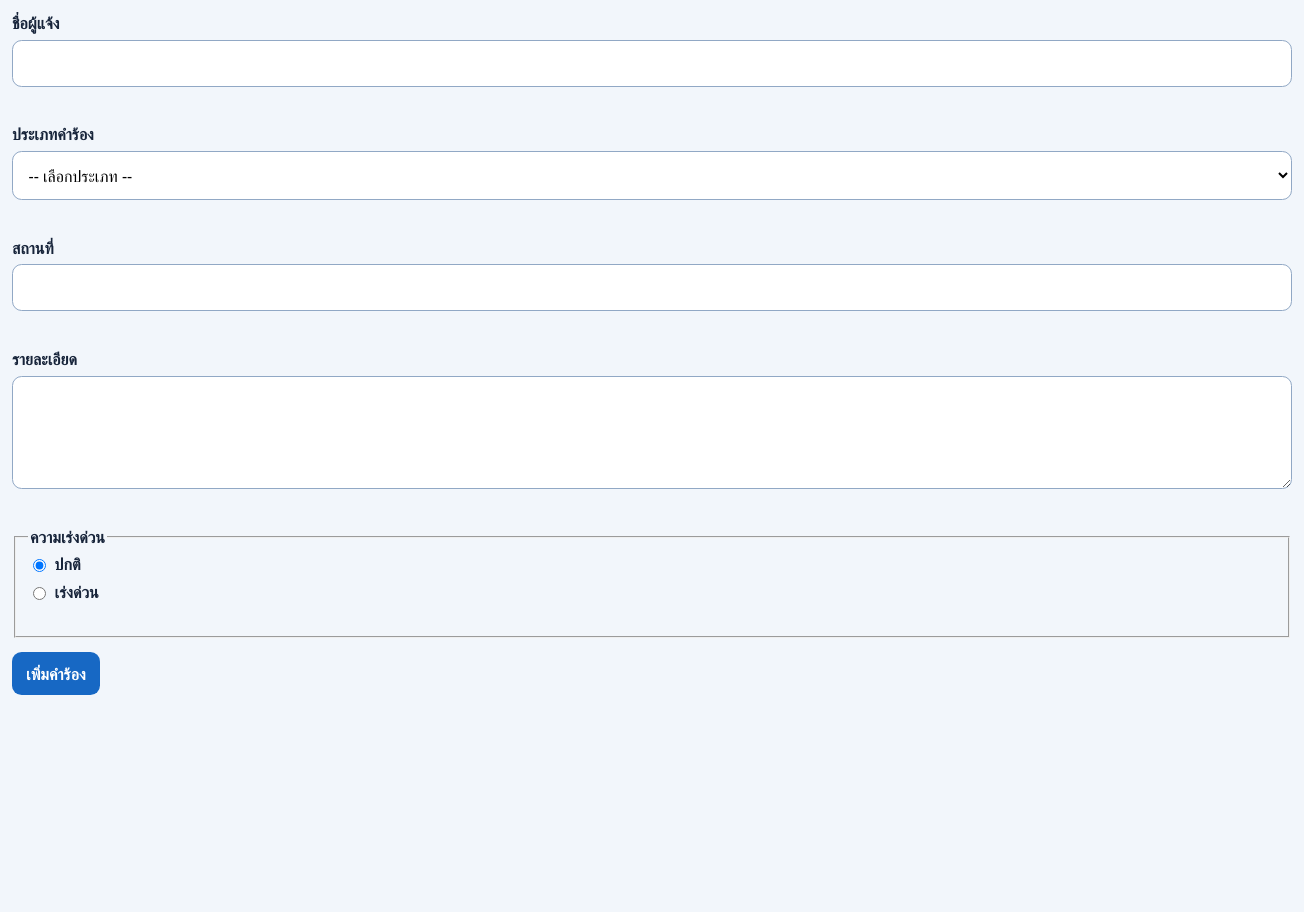
RequestForm › API ปฏิเสธ -> แสดงข้อความ error และ "ไม่" รีเซ็ตฟอร์ม
In the field labelled "ชื่อผู้แจ้ง": [652, 63] box [12,40,1292,87], type "ญาณากร"
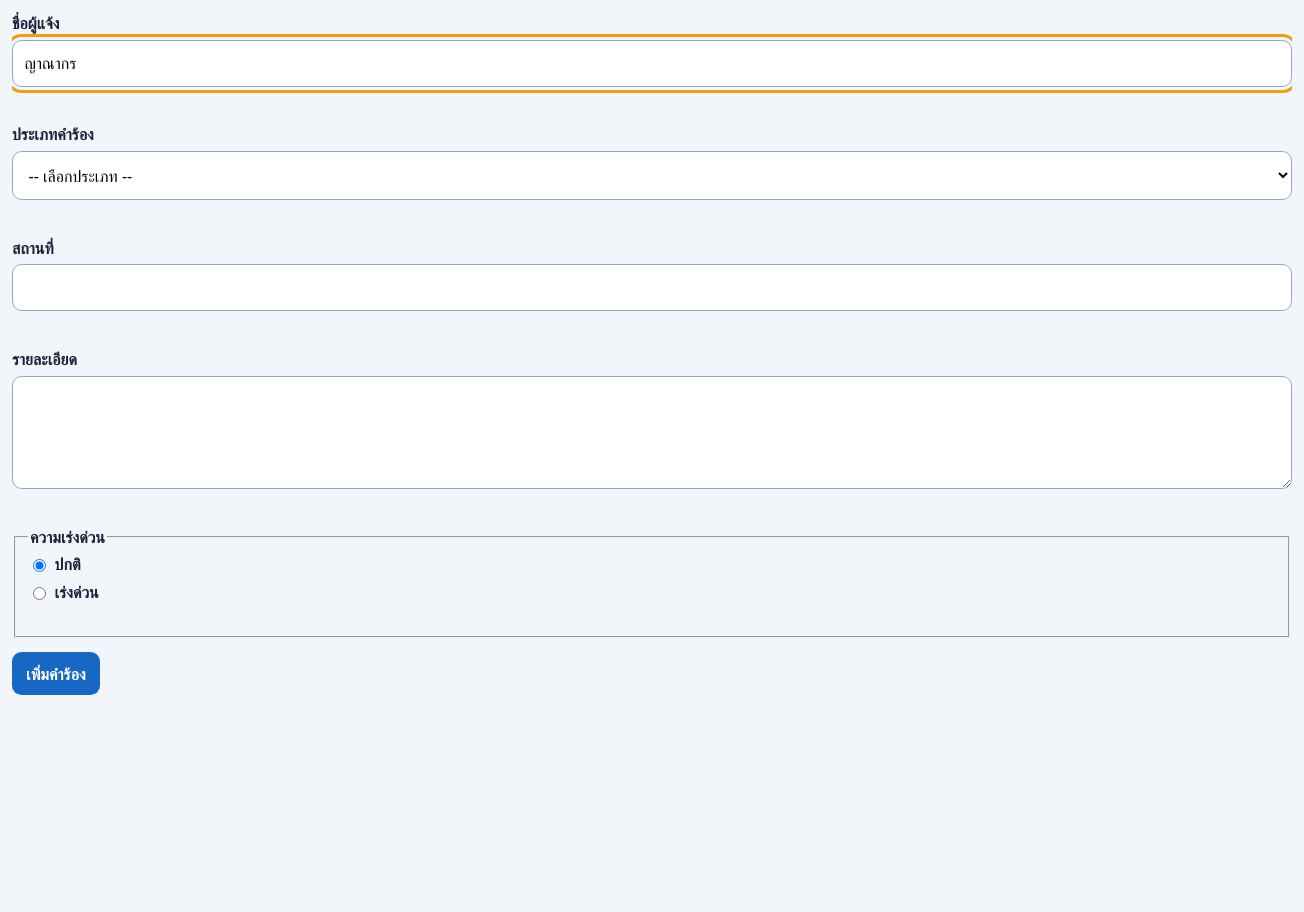
Select "แจ้งซ่อม" in the dropdown labelled "ประเภทคำร้อง": [652, 176] box [12,151,1292,200]
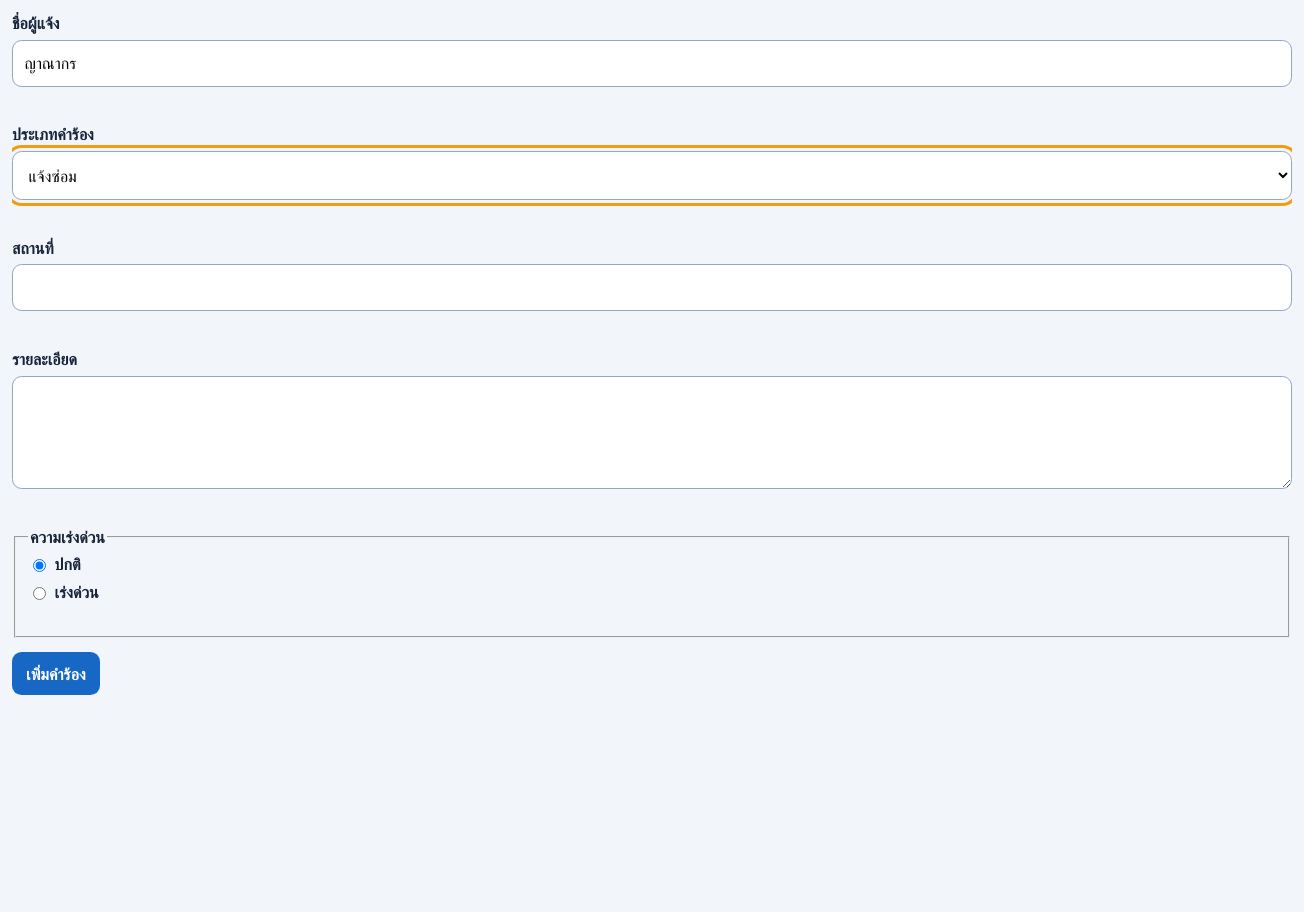
In the field labelled "สถานที่": [652, 288] box [12,264,1292,311], type "ห้อง 301"
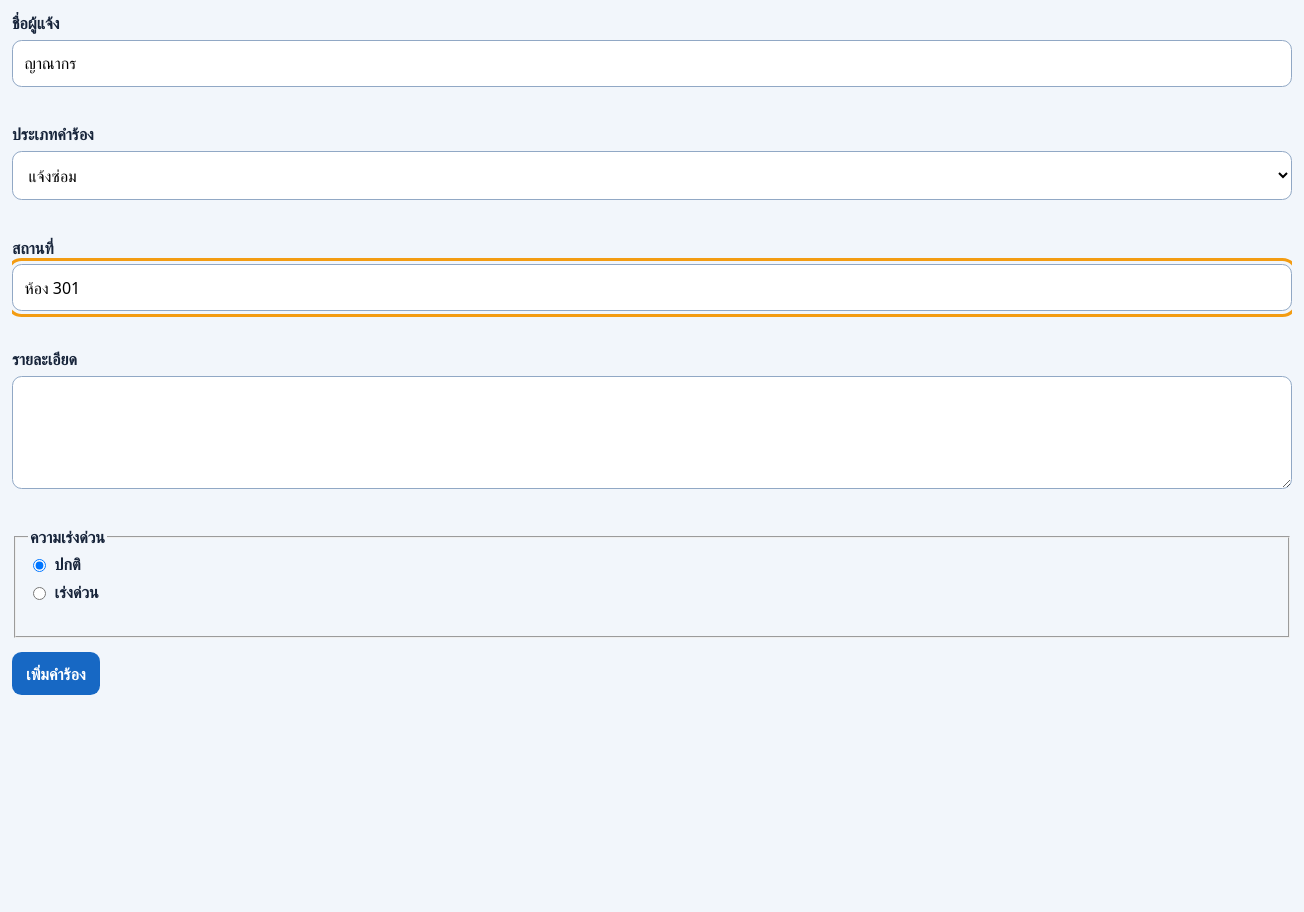
In the text box labelled "รายละเอียด": [652, 432] box [12,376,1292,489], type "โปรเจกเตอร์เปิดไม่ติด"
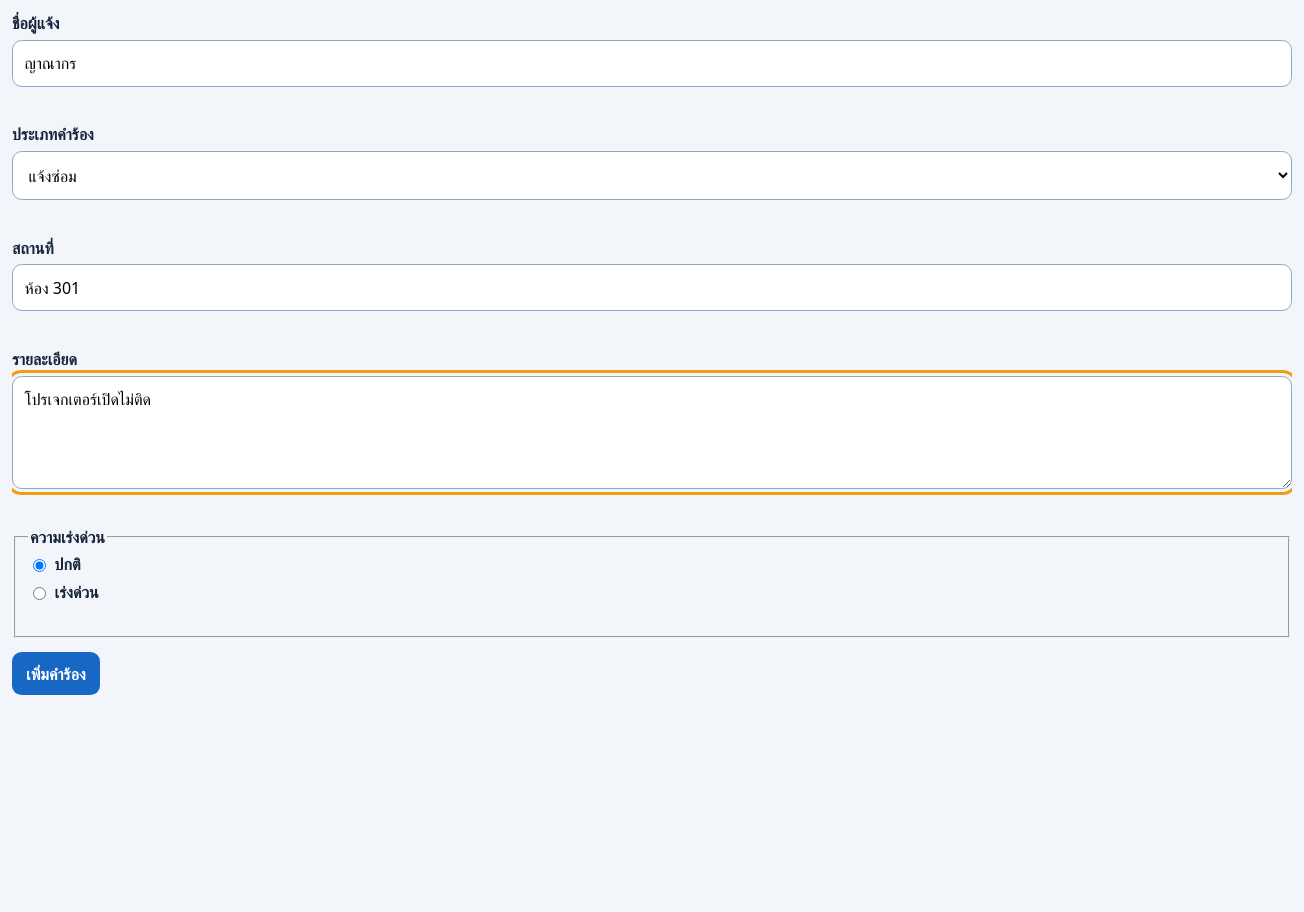
Click the button "เพิ่มคำร้อง": [56, 674] box [12,652,100,695]
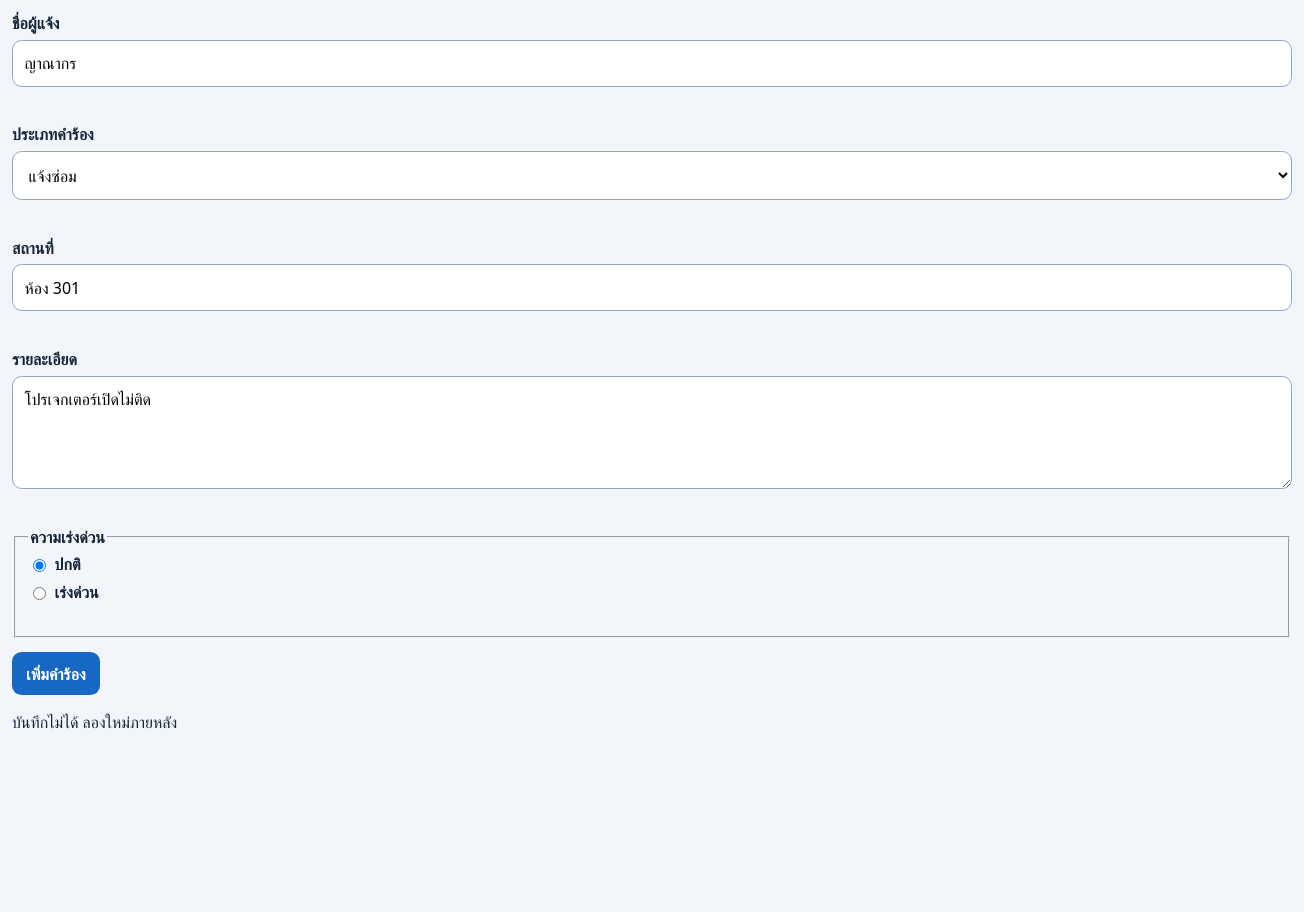
Expected: the text "บันทึกไม่ได้ ลองใหม่ภายหลัง" is shown, [12,711,177,733]
